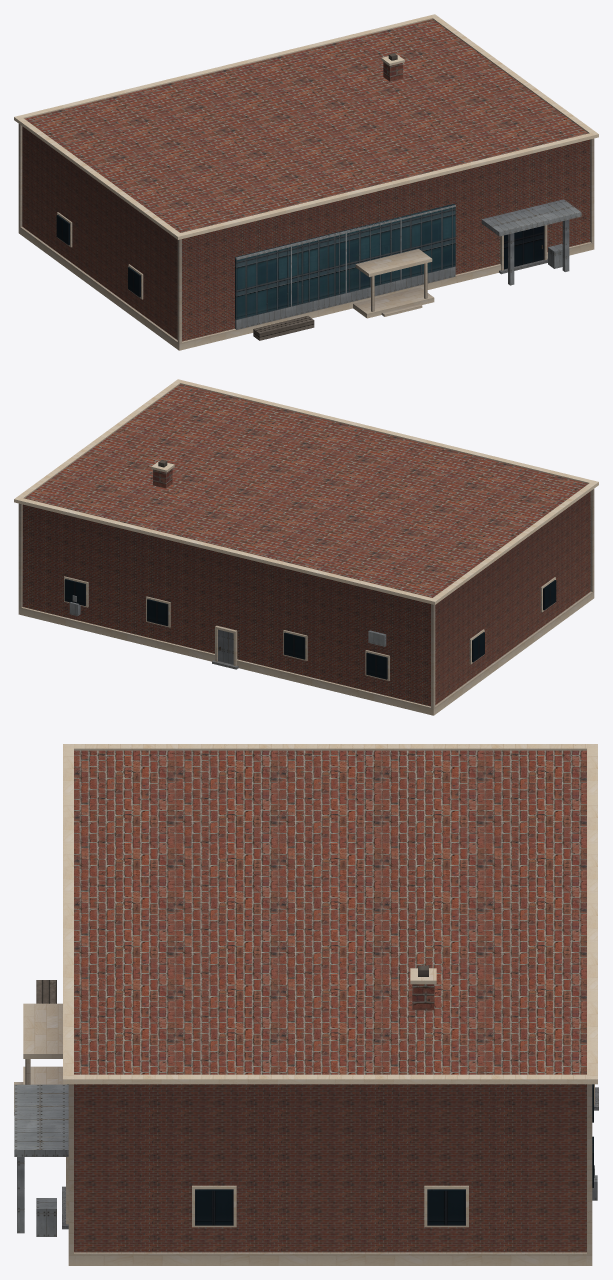
Rendered from library-branch_lod0.gltf.
The picture shows the model from 3 angles, top to bottom: view 1: azimuth 30°, elevation 25°; view 2: azimuth 150°, elevation 25°; view 3: azimuth 270°, elevation 25°; orthographic projection. The views are drawn at different scales.
Parts seen in each view (by area): view 1: library-branch_main, library-branch__v4_stone_detail, library-branch_fen_07-glass-curtain-blue_1, library-branch_fen_14-steel-panel_0, library-branch__entry_canopy, library-branch_fen_07-glass-curtain-blue_3_t, library-branch__benches, library-branch_fen_04-limestone_2; view 2: library-branch_main, library-branch__v4_stone_detail, library-branch_fen_07-glass-curtain-blue_3_t, library-branch_fen_04-limestone_2, library-branch_fen_14-steel-panel_0; view 3: library-branch_main, library-branch__v4_stone_detail, library-branch__entry_canopy, library-branch_fen_07-glass-curtain-blue_3_t, library-branch_fen_04-limestone_2, library-branch__book_drop.
Boxes of the visible parts, x1,y1,x2,y2 form: library-branch_main: [22, 19, 590, 341]; library-branch__v4_stone_detail: [14, 14, 598, 350]; library-branch_fen_07-glass-curtain-blue_1: [235, 204, 455, 319]; library-branch_fen_14-steel-panel_0: [235, 205, 455, 329]; library-branch__entry_canopy: [481, 199, 581, 236]; library-branch_fen_07-glass-curtain-blue_3_t: [56, 215, 544, 297]; library-branch__benches: [253, 316, 314, 340]; library-branch_fen_04-limestone_2: [57, 212, 547, 299]; library-branch_main: [22, 384, 590, 706]; library-branch__v4_stone_detail: [14, 379, 598, 715]; library-branch_fen_07-glass-curtain-blue_3_t: [64, 579, 556, 679]; library-branch_fen_04-limestone_2: [64, 576, 555, 680]; library-branch_fen_14-steel-panel_0: [69, 595, 386, 664]; library-branch_main: [74, 750, 586, 1252]; library-branch__v4_stone_detail: [14, 744, 597, 1265]; library-branch__entry_canopy: [14, 1084, 68, 1156]; library-branch_fen_07-glass-curtain-blue_3_t: [195, 1084, 593, 1225]; library-branch_fen_04-limestone_2: [66, 1084, 594, 1227]; library-branch__book_drop: [36, 1198, 56, 1236].
Size of the model in its own units: 30.72 by 9.59 by 22.66.
